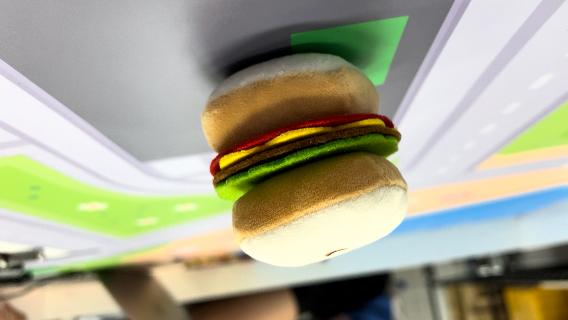sandwich: (199, 51, 411, 268)
